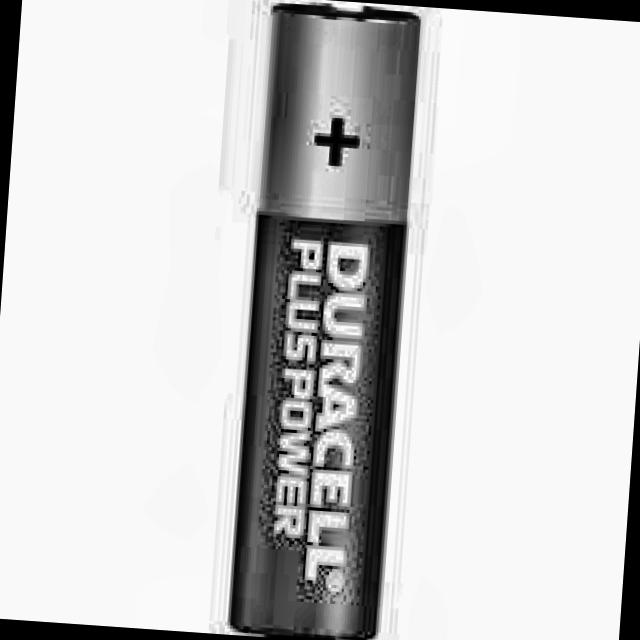Battery: (229, 0, 421, 640)
